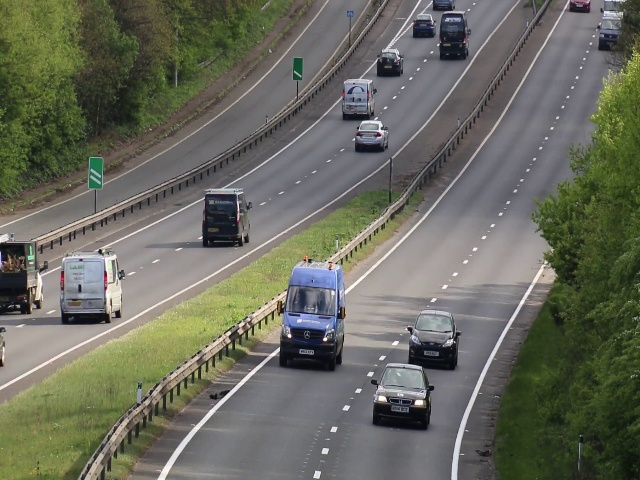car: (279, 269, 343, 371), (57, 255, 126, 322), (372, 361, 432, 431), (1, 239, 44, 314), (408, 308, 459, 366), (203, 190, 252, 246), (439, 12, 470, 61), (342, 79, 378, 118), (352, 119, 387, 153), (377, 49, 404, 77), (412, 12, 437, 40)
